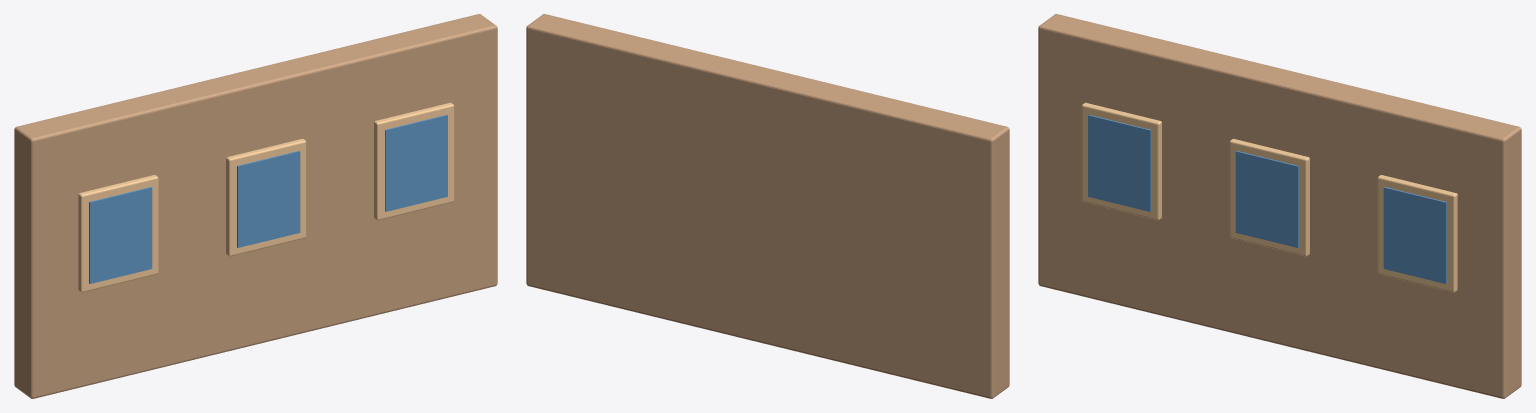
Rendered from wall.glb.
3 renders of one model, left to right at view 1: azimuth 30°, elevation 25°; view 2: azimuth 150°, elevation 25°; view 3: azimuth 330°, elevation 25°, orthographic.
Parts seen in each view (by area): view 1: wall, wall_glass1, wall_glass0, wall_glass2, wall_frame0, wall_frame1, wall_frame2; view 2: wall; view 3: wall, wall_glass1, wall_glass2, wall_glass0, wall_frame1, wall_frame2, wall_frame0.
Part boxes in pixels (left/top/right/bottom): wall: left=14, top=14, right=497, bottom=398; wall_glass1: left=237, top=151, right=300, bottom=247; wall_glass0: left=89, top=187, right=152, bottom=283; wall_glass2: left=385, top=115, right=447, bottom=211; wall_frame0: left=78, top=175, right=158, bottom=292; wall_frame1: left=226, top=138, right=306, bottom=256; wall_frame2: left=374, top=102, right=454, bottom=220; wall: left=526, top=14, right=1009, bottom=398; wall: left=1038, top=14, right=1521, bottom=398; wall_glass1: left=1235, top=151, right=1298, bottom=247; wall_glass2: left=1383, top=187, right=1446, bottom=283; wall_glass0: left=1088, top=115, right=1150, bottom=211; wall_frame1: left=1229, top=138, right=1309, bottom=256; wall_frame2: left=1377, top=175, right=1457, bottom=292; wall_frame0: left=1081, top=102, right=1161, bottom=220.
Size of the model in its own units: 6 by 3.2 by 0.49.
